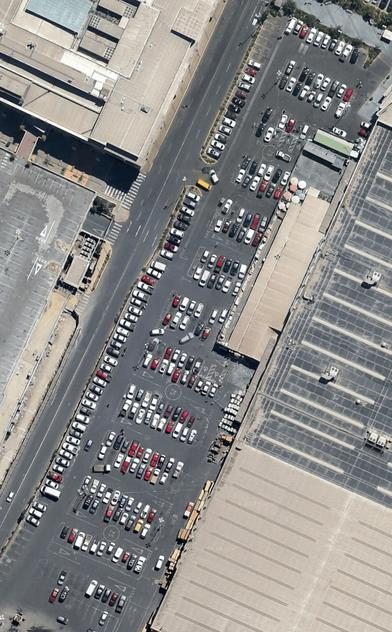parkingspot: (0, 188, 204, 587), (203, 12, 283, 163), (0, 268, 58, 401), (40, 559, 130, 613), (0, 214, 45, 320), (57, 522, 146, 575), (28, 581, 120, 632), (72, 491, 160, 544), (283, 16, 369, 69), (79, 475, 166, 527), (103, 430, 186, 480), (118, 398, 200, 448), (125, 383, 206, 433), (139, 352, 221, 401), (95, 445, 177, 494), (275, 73, 348, 120), (282, 59, 356, 105), (146, 336, 213, 379), (11, 163, 76, 206), (162, 307, 222, 346), (168, 292, 229, 330), (0, 208, 30, 281), (252, 121, 307, 157), (190, 262, 244, 298), (219, 198, 271, 235), (260, 106, 313, 142), (240, 153, 293, 189), (233, 169, 285, 204), (212, 215, 264, 250), (198, 247, 250, 281), (56, 210, 84, 247), (357, 0, 392, 16), (209, 364, 225, 384)
